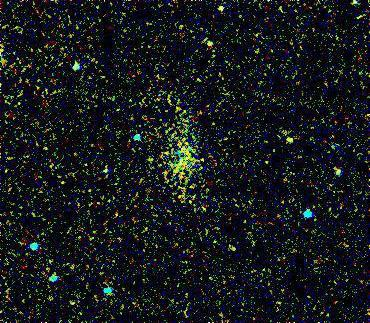star: (277, 128, 307, 158)
